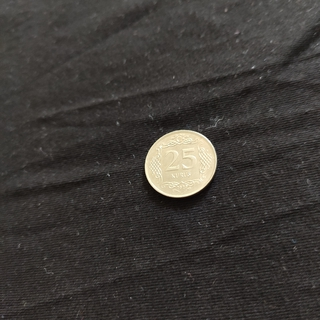25KURUS: (142, 128, 218, 199)
